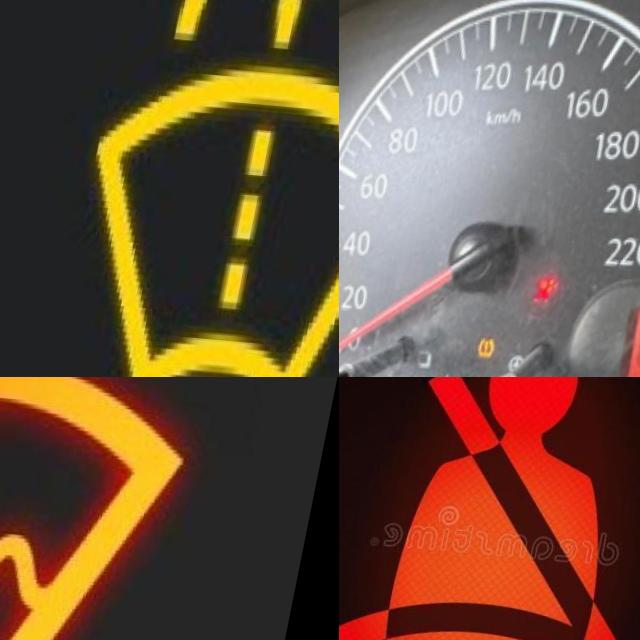Seat Belt: (339, 377, 640, 640)
Washer Fluid: (67, 0, 339, 377), (0, 377, 229, 640)
